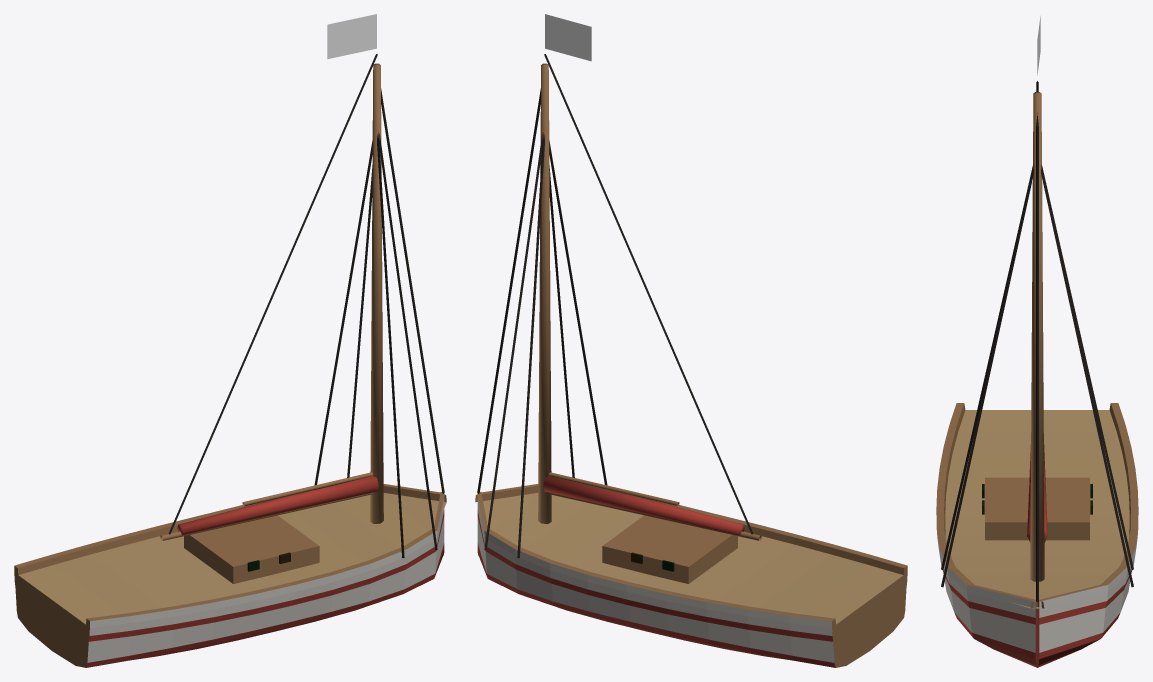
The model's file is hull_cat_boat_docked.glb.
3 renders of one model, left to right at view 1: azimuth 30°, elevation 25°; view 2: azimuth 150°, elevation 25°; view 3: azimuth 270°, elevation 25°, orthographic. The views are drawn at different scales.
Visible parts, largest first — view 1: hull_cat_boat_docked_hull, hull_cat_boat_docked_rigging, hull_cat_boat_docked_deck, hull_cat_boat_docked_mast, hull_cat_boat_docked_sail_cover_fore, hull_cat_boat_docked_flag; view 2: hull_cat_boat_docked_hull, hull_cat_boat_docked_rigging, hull_cat_boat_docked_deck, hull_cat_boat_docked_mast, hull_cat_boat_docked_sail_cover_fore, hull_cat_boat_docked_flag; view 3: hull_cat_boat_docked_hull, hull_cat_boat_docked_rigging, hull_cat_boat_docked_deck, hull_cat_boat_docked_mast, hull_cat_boat_docked_sail_cover_fore.
Part boxes in pixels (<box>): hull_cat_boat_docked_hull: <box>14,484,446,667</box>; hull_cat_boat_docked_rigging: <box>168,54,444,558</box>; hull_cat_boat_docked_deck: <box>184,515,319,583</box>; hull_cat_boat_docked_mast: <box>242,63,383,523</box>; hull_cat_boat_docked_sail_cover_fore: <box>177,476,378,535</box>; hull_cat_boat_docked_flag: <box>327,14,376,59</box>; hull_cat_boat_docked_hull: <box>475,484,907,667</box>; hull_cat_boat_docked_rigging: <box>477,54,753,558</box>; hull_cat_boat_docked_deck: <box>602,515,737,583</box>; hull_cat_boat_docked_mast: <box>538,63,679,523</box>; hull_cat_boat_docked_sail_cover_fore: <box>543,476,744,535</box>; hull_cat_boat_docked_flag: <box>545,14,591,61</box>; hull_cat_boat_docked_hull: <box>936,403,1138,667</box>; hull_cat_boat_docked_rigging: <box>941,81,1133,601</box>; hull_cat_boat_docked_deck: <box>985,477,1089,540</box>; hull_cat_boat_docked_mast: <box>1030,92,1044,581</box>; hull_cat_boat_docked_sail_cover_fore: <box>1027,445,1047,542</box>.
Bounding box in the file's own units: 7.52 × 10.44 × 3.15.
